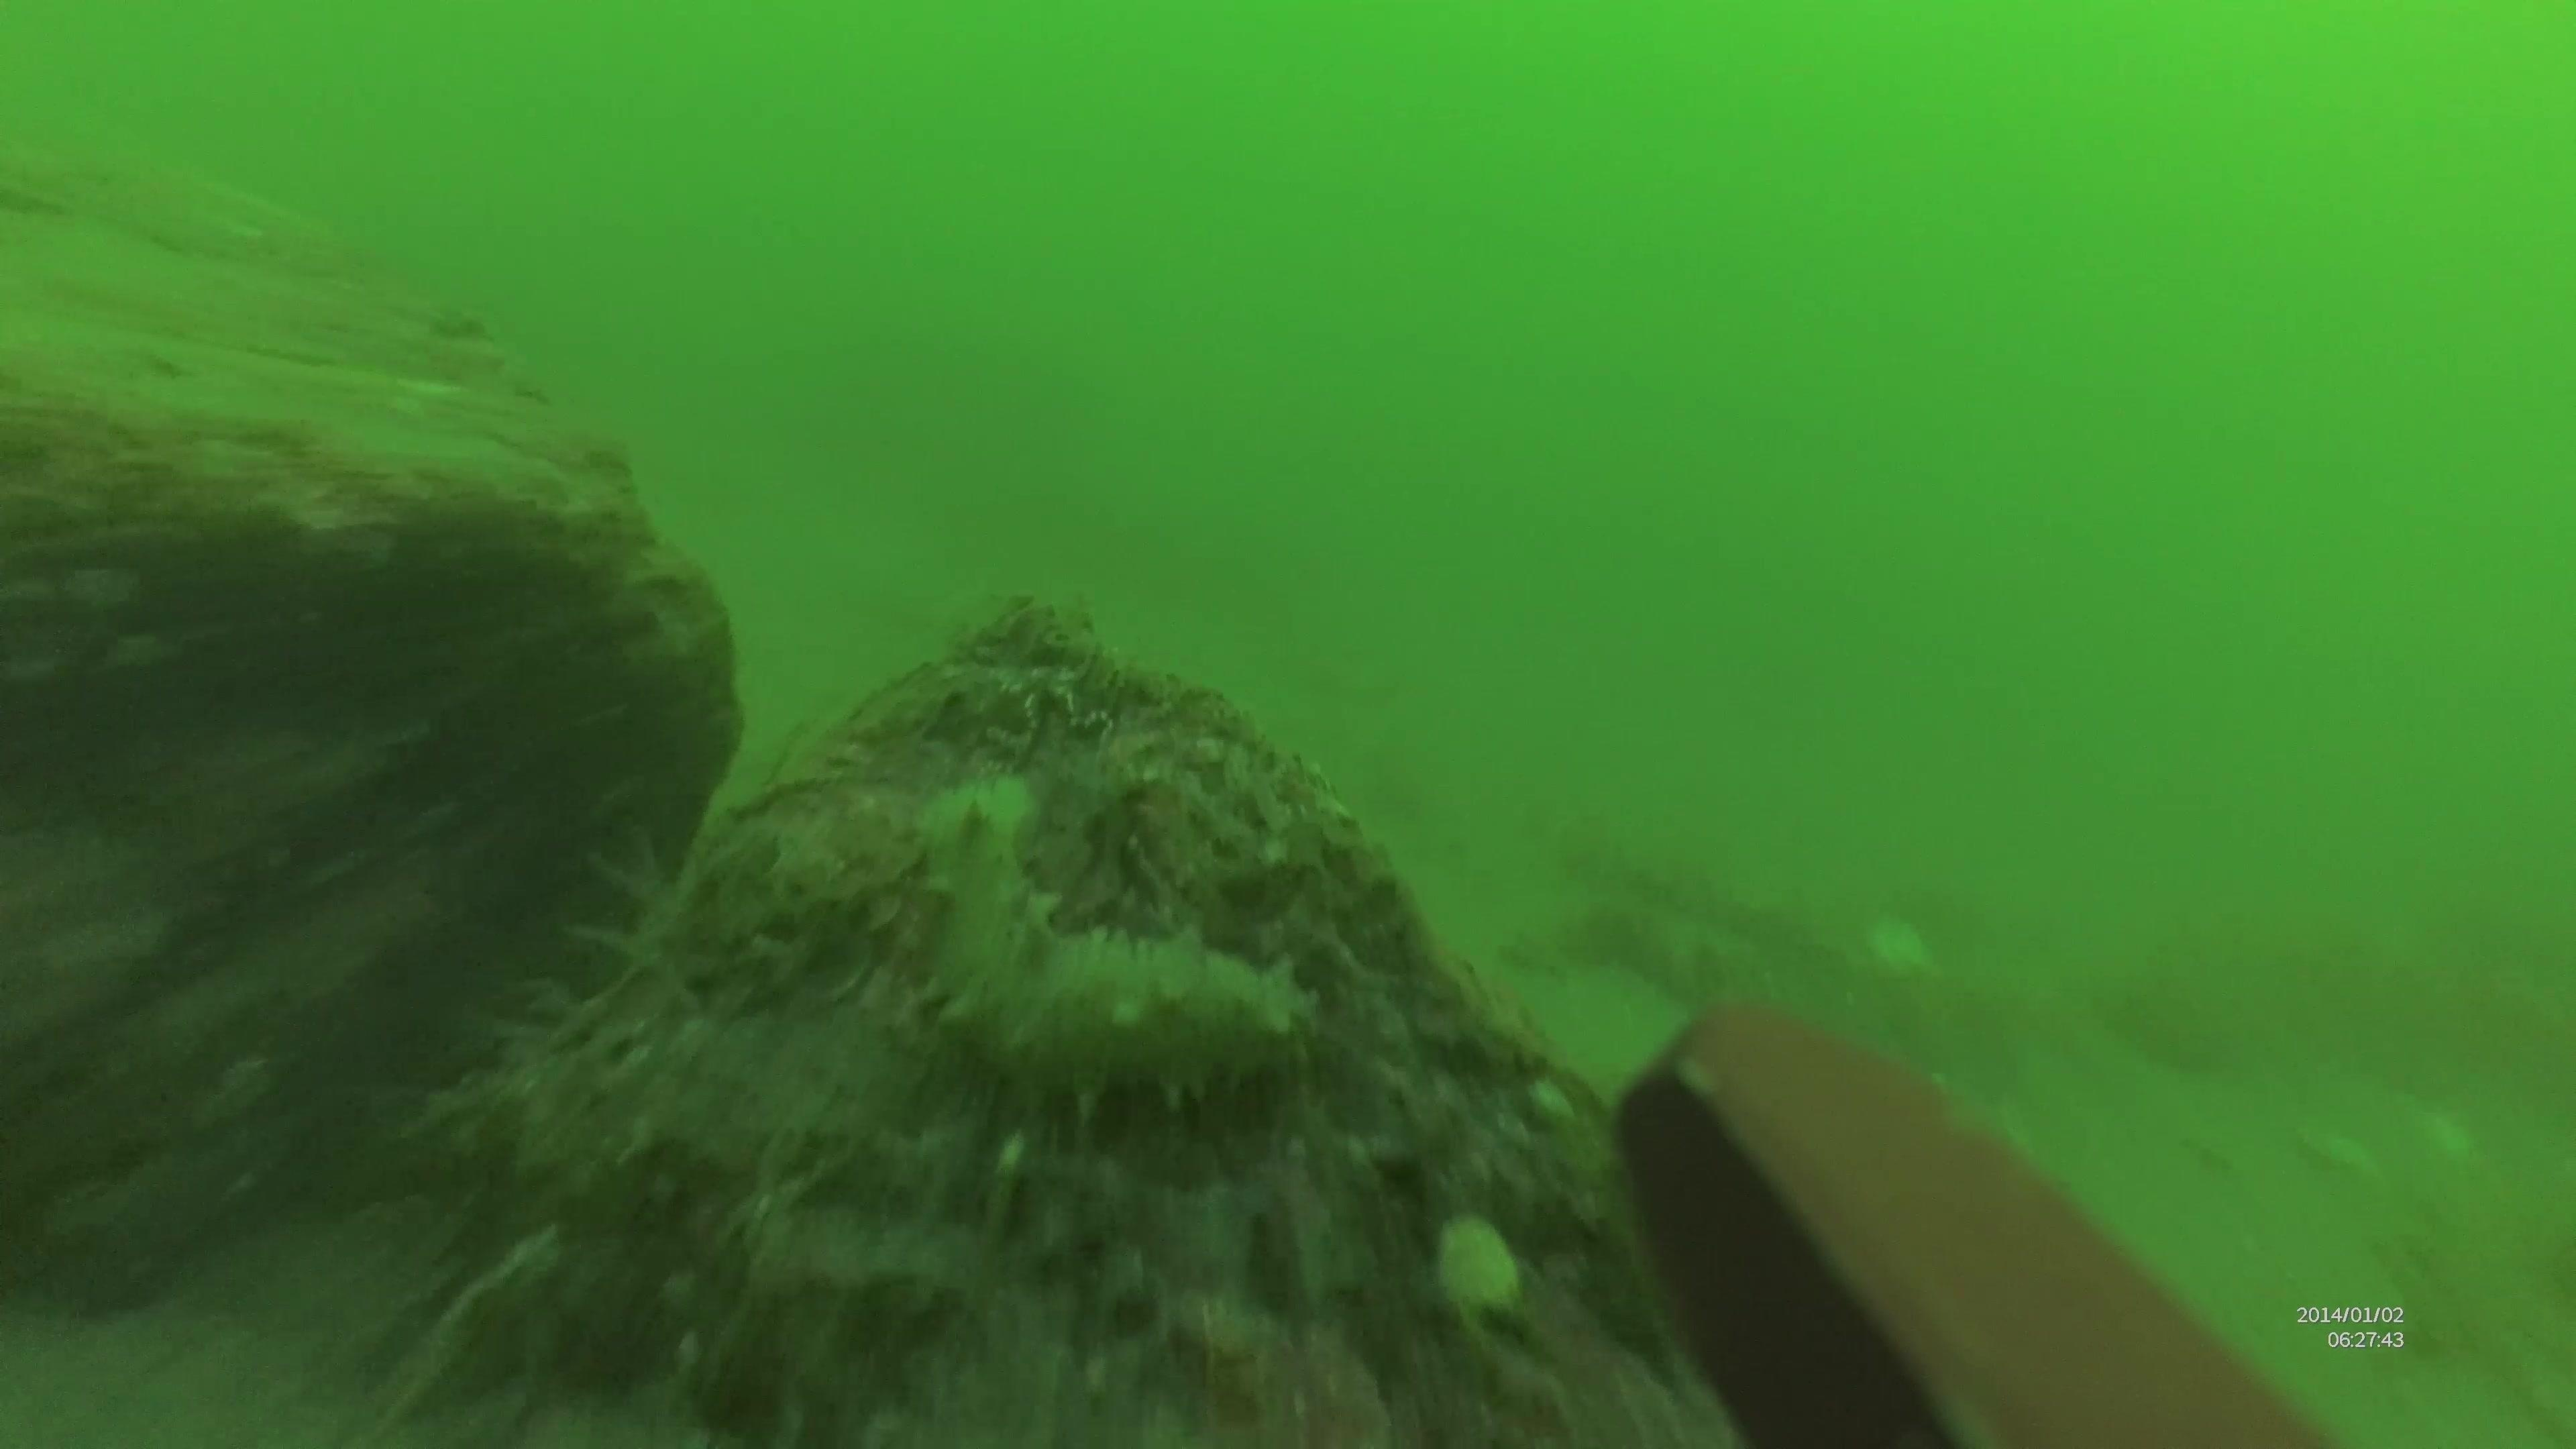echinus: (888, 777, 1322, 1123)
holothurian: (885, 778, 1323, 1125)
